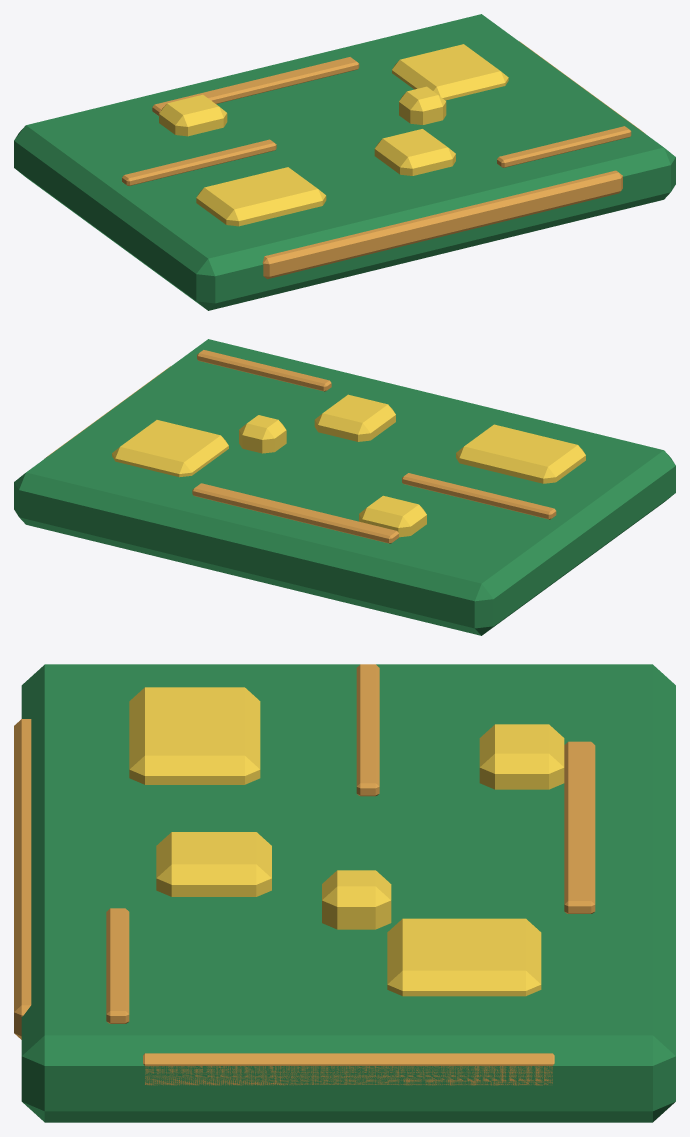
Rendered from CircuitBoard.glb.
3 renders of one model, top to bottom at view 1: azimuth 30°, elevation 25°; view 2: azimuth 150°, elevation 25°; view 3: azimuth 270°, elevation 25°, orthographic. The views are drawn at different scales.
Parts seen in each view (by area): view 1: FTF_Item_Industrial_GreenCircuitBoard_StaticMesh; view 2: FTF_Item_Industrial_GreenCircuitBoard_StaticMesh; view 3: FTF_Item_Industrial_GreenCircuitBoard_StaticMesh.
Part boxes in pixels (<box>): FTF_Item_Industrial_GreenCircuitBoard_StaticMesh: <box>14,14,675,310</box>; FTF_Item_Industrial_GreenCircuitBoard_StaticMesh: <box>14,339,675,635</box>; FTF_Item_Industrial_GreenCircuitBoard_StaticMesh: <box>14,664,675,1122</box>.
Size of the model in its own units: 0.24 by 0.0355 by 0.172.
